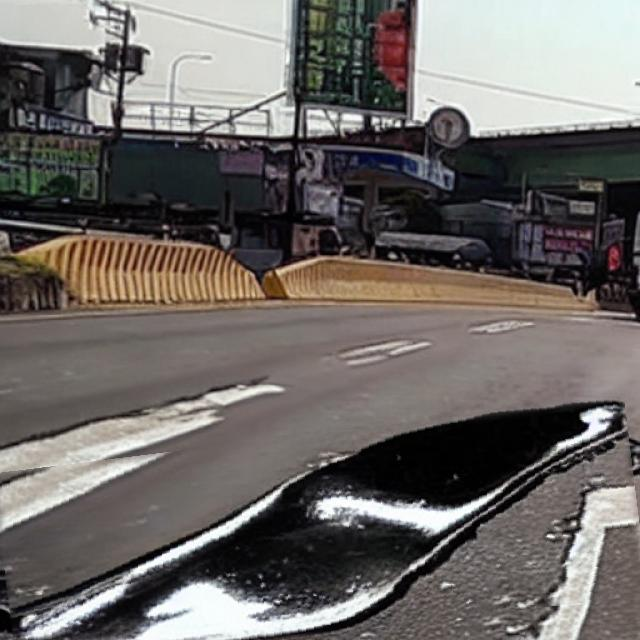puddle: (1, 416, 640, 640)
